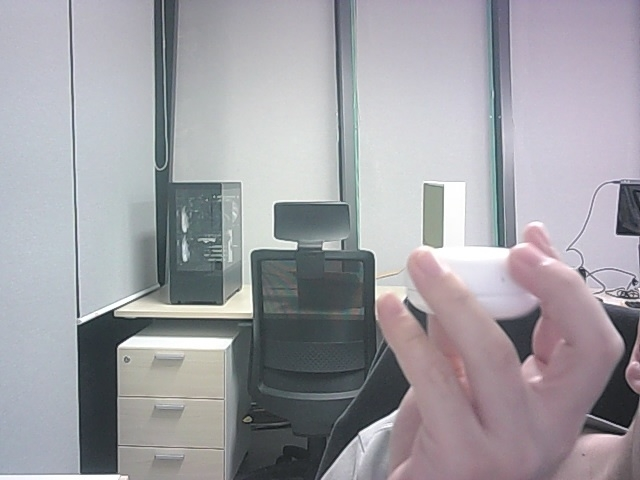case: (435, 248, 537, 319), (406, 273, 431, 315)
